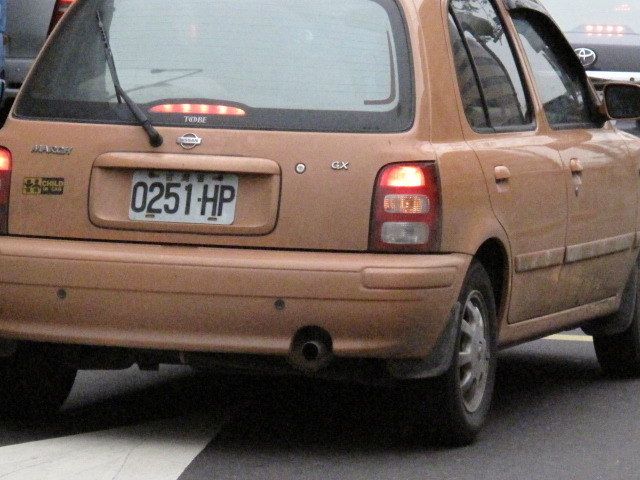plate: (127, 168, 238, 226)
